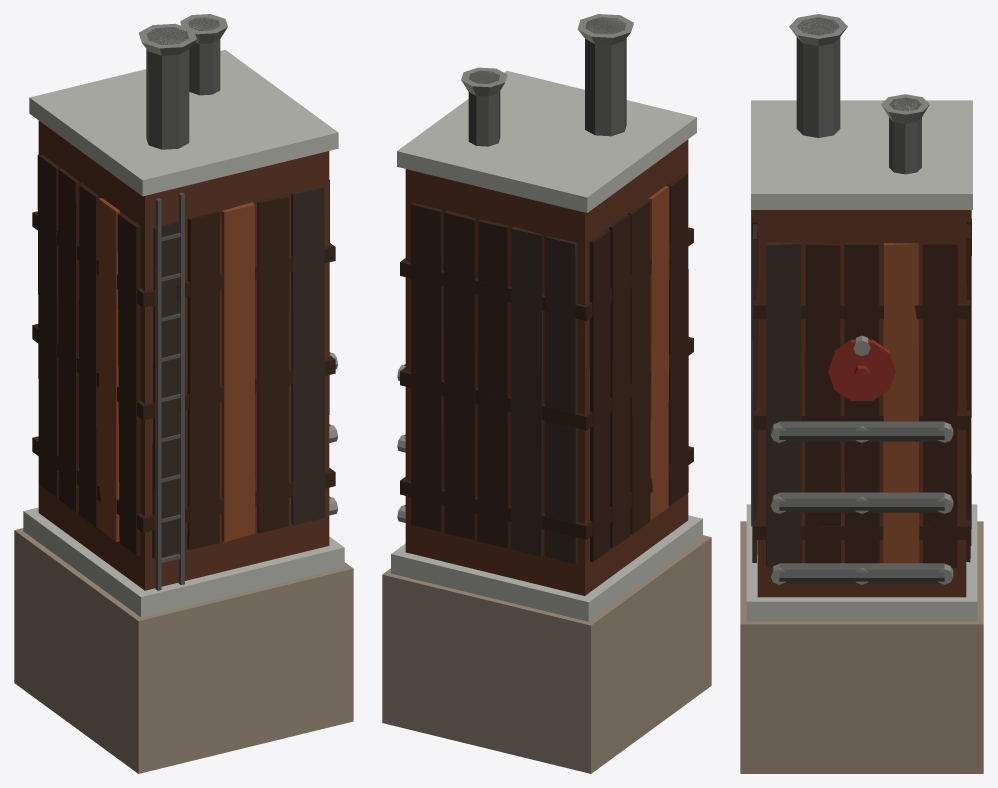
The model's file is fort_pumpworks_tower.glb.
The picture shows the model from 3 angles, left to right: view 1: azimuth 30°, elevation 25°; view 2: azimuth 150°, elevation 25°; view 3: azimuth 270°, elevation 25°; orthographic projection. The views are drawn at different scales.
Visible parts, largest first — view 1: fort_pumpworks_tower; view 2: fort_pumpworks_tower; view 3: fort_pumpworks_tower.
Boxes of the visible parts, box(x1,y1,x2,y2) form: fort_pumpworks_tower: box(14, 14, 353, 773); fort_pumpworks_tower: box(382, 14, 711, 773); fort_pumpworks_tower: box(740, 14, 983, 773).
Size of the model in its own units: 5.75 by 17.2 by 5.6.
